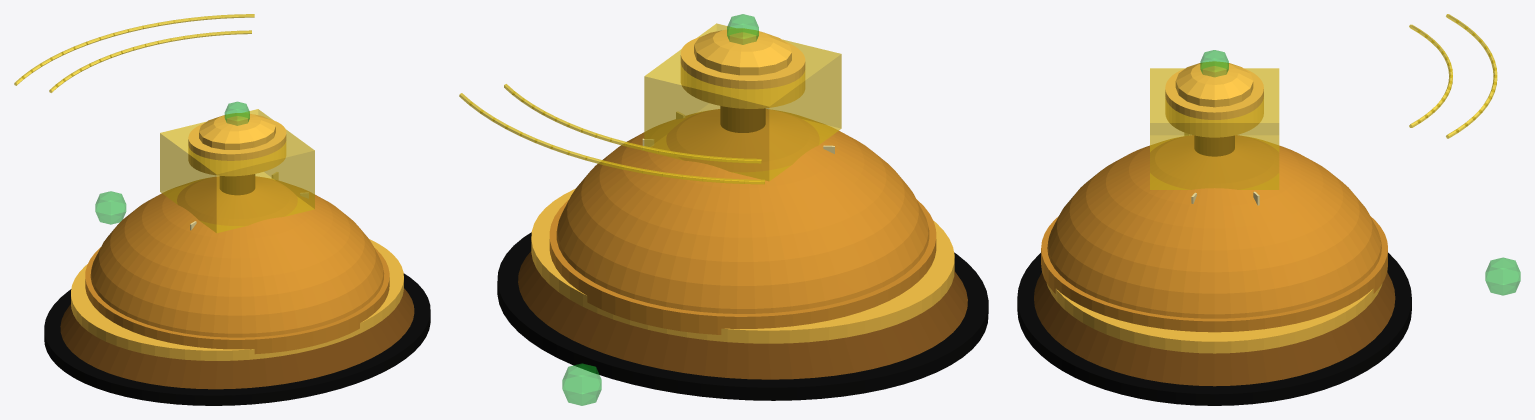
File: desk_service_bell.obj
3 renders of one model, left to right at view 1: azimuth 30°, elevation 25°; view 2: azimuth 150°, elevation 25°; view 3: azimuth 270°, elevation 25°, orthographic. The views are drawn at different scales.
Visible parts, largest first — view 1: Main_shiny_service_bell_dome, Guide_Noise_Source_Ring_Event_delete_or_hide, Round_bell_base_plinth, Round_black_rubber_foot_shadow, Thin_bright_base_rim, Bell_dome_rolled_lower_lip, Round_tap_button_on_top, Rounded_top_button_cap, Guide_Interaction_Point_RingBell, Central_button_stem, Guide_Button_Press_Point; view 2: Main_shiny_service_bell_dome, Round_bell_base_plinth, Guide_Noise_Source_Ring_Event_delete_or_hide, Round_black_rubber_foot_shadow, Thin_bright_base_rim, Bell_dome_rolled_lower_lip, Round_tap_button_on_top, Rounded_top_button_cap, Guide_Interaction_Point_RingBell, Central_button_stem, Guide_Button_Press_Point; view 3: Main_shiny_service_bell_dome, Round_bell_base_plinth, Guide_Noise_Source_Ring_Event_delete_or_hide, Round_black_rubber_foot_shadow, Thin_bright_base_rim, Bell_dome_rolled_lower_lip, Round_tap_button_on_top, Rounded_top_button_cap, Guide_Interaction_Point_RingBell, Central_button_stem, Guide_Button_Press_Point.
Boxes of the visible parts, left/top/right/bottom form: Main_shiny_service_bell_dome: left=90, top=176, right=384, bottom=337; Guide_Noise_Source_Ring_Event_delete_or_hide: left=160, top=109, right=314, bottom=233; Round_bell_base_plinth: left=60, top=288, right=414, bottom=389; Round_black_rubber_foot_shadow: left=44, top=273, right=430, bottom=405; Thin_bright_base_rim: left=71, top=239, right=403, bottom=360; Bell_dome_rolled_lower_lip: left=85, top=247, right=389, bottom=354; Round_tap_button_on_top: left=188, top=119, right=286, bottom=176; Rounded_top_button_cap: left=199, top=113, right=275, bottom=149; Guide_Interaction_Point_RingBell: left=95, top=191, right=126, bottom=224; Central_button_stem: left=219, top=174, right=255, bottom=195; Guide_Button_Press_Point: left=224, top=101, right=249, bottom=125; Main_shiny_service_bell_dome: left=556, top=109, right=929, bottom=313; Round_bell_base_plinth: left=518, top=251, right=967, bottom=379; Guide_Noise_Source_Ring_Event_delete_or_hide: left=644, top=23, right=841, bottom=181; Round_black_rubber_foot_shadow: left=497, top=232, right=988, bottom=400; Thin_bright_base_rim: left=531, top=188, right=954, bottom=343; Bell_dome_rolled_lower_lip: left=549, top=199, right=936, bottom=334; Round_tap_button_on_top: left=680, top=36, right=805, bottom=108; Rounded_top_button_cap: left=694, top=28, right=791, bottom=75; Guide_Interaction_Point_RingBell: left=562, top=363, right=601, bottom=405; Central_button_stem: left=720, top=106, right=765, bottom=132; Guide_Button_Press_Point: left=727, top=14, right=758, bottom=44; Main_shiny_service_bell_dome: left=1047, top=135, right=1381, bottom=318; Round_bell_base_plinth: left=1034, top=272, right=1395, bottom=386; Guide_Noise_Source_Ring_Event_delete_or_hide: left=1150, top=68, right=1279, bottom=189; Round_black_rubber_foot_shadow: left=1017, top=252, right=1411, bottom=405; Thin_bright_base_rim: left=1046, top=283, right=1382, bottom=353; Bell_dome_rolled_lower_lip: left=1041, top=216, right=1387, bottom=332; Round_tap_button_on_top: left=1165, top=68, right=1263, bottom=137; Rounded_top_button_cap: left=1175, top=61, right=1253, bottom=107; Guide_Interaction_Point_RingBell: left=1485, top=257, right=1520, bottom=295; Central_button_stem: left=1194, top=135, right=1234, bottom=156; Guide_Button_Press_Point: left=1200, top=50, right=1228, bottom=76.
Size of what is drawn, in the model's own units: 1.23 by 0.7745 by 1.36.
